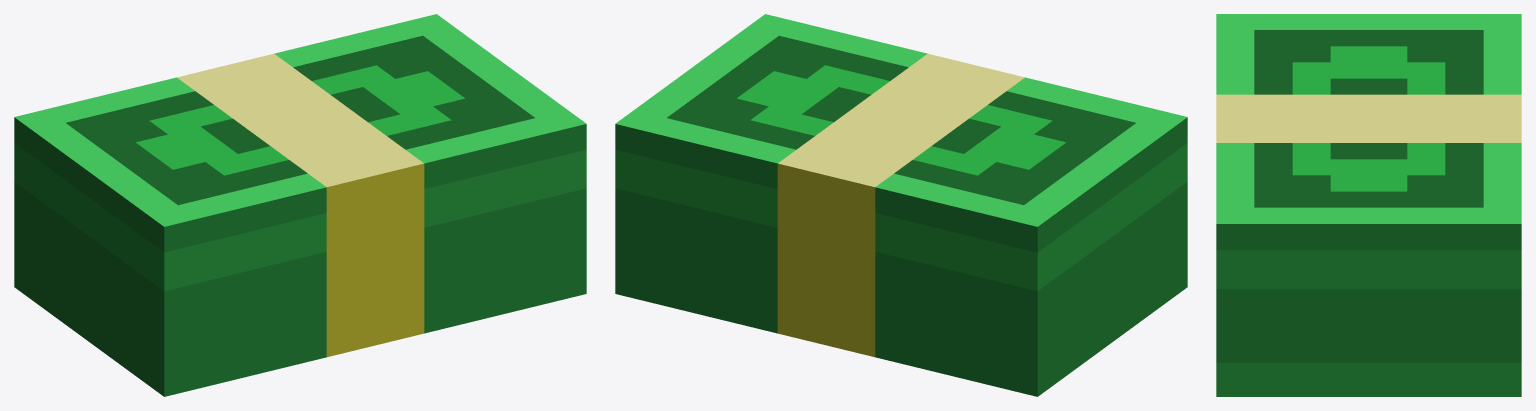
The model's file is CashC.fbx.
The picture shows the model from 3 angles, left to right: view 1: azimuth 30°, elevation 25°; view 2: azimuth 150°, elevation 25°; view 3: azimuth 270°, elevation 25°; orthographic projection.
Parts seen in each view (by area): view 1: CashC; view 2: CashC; view 3: CashC.
Boxes of the visible parts, x1,y1,x2,y2 form: CashC: (14, 14, 586, 396); CashC: (615, 14, 1187, 396); CashC: (1216, 14, 1521, 396).
Size of the model in its own units: 130 by 50 by 80.
